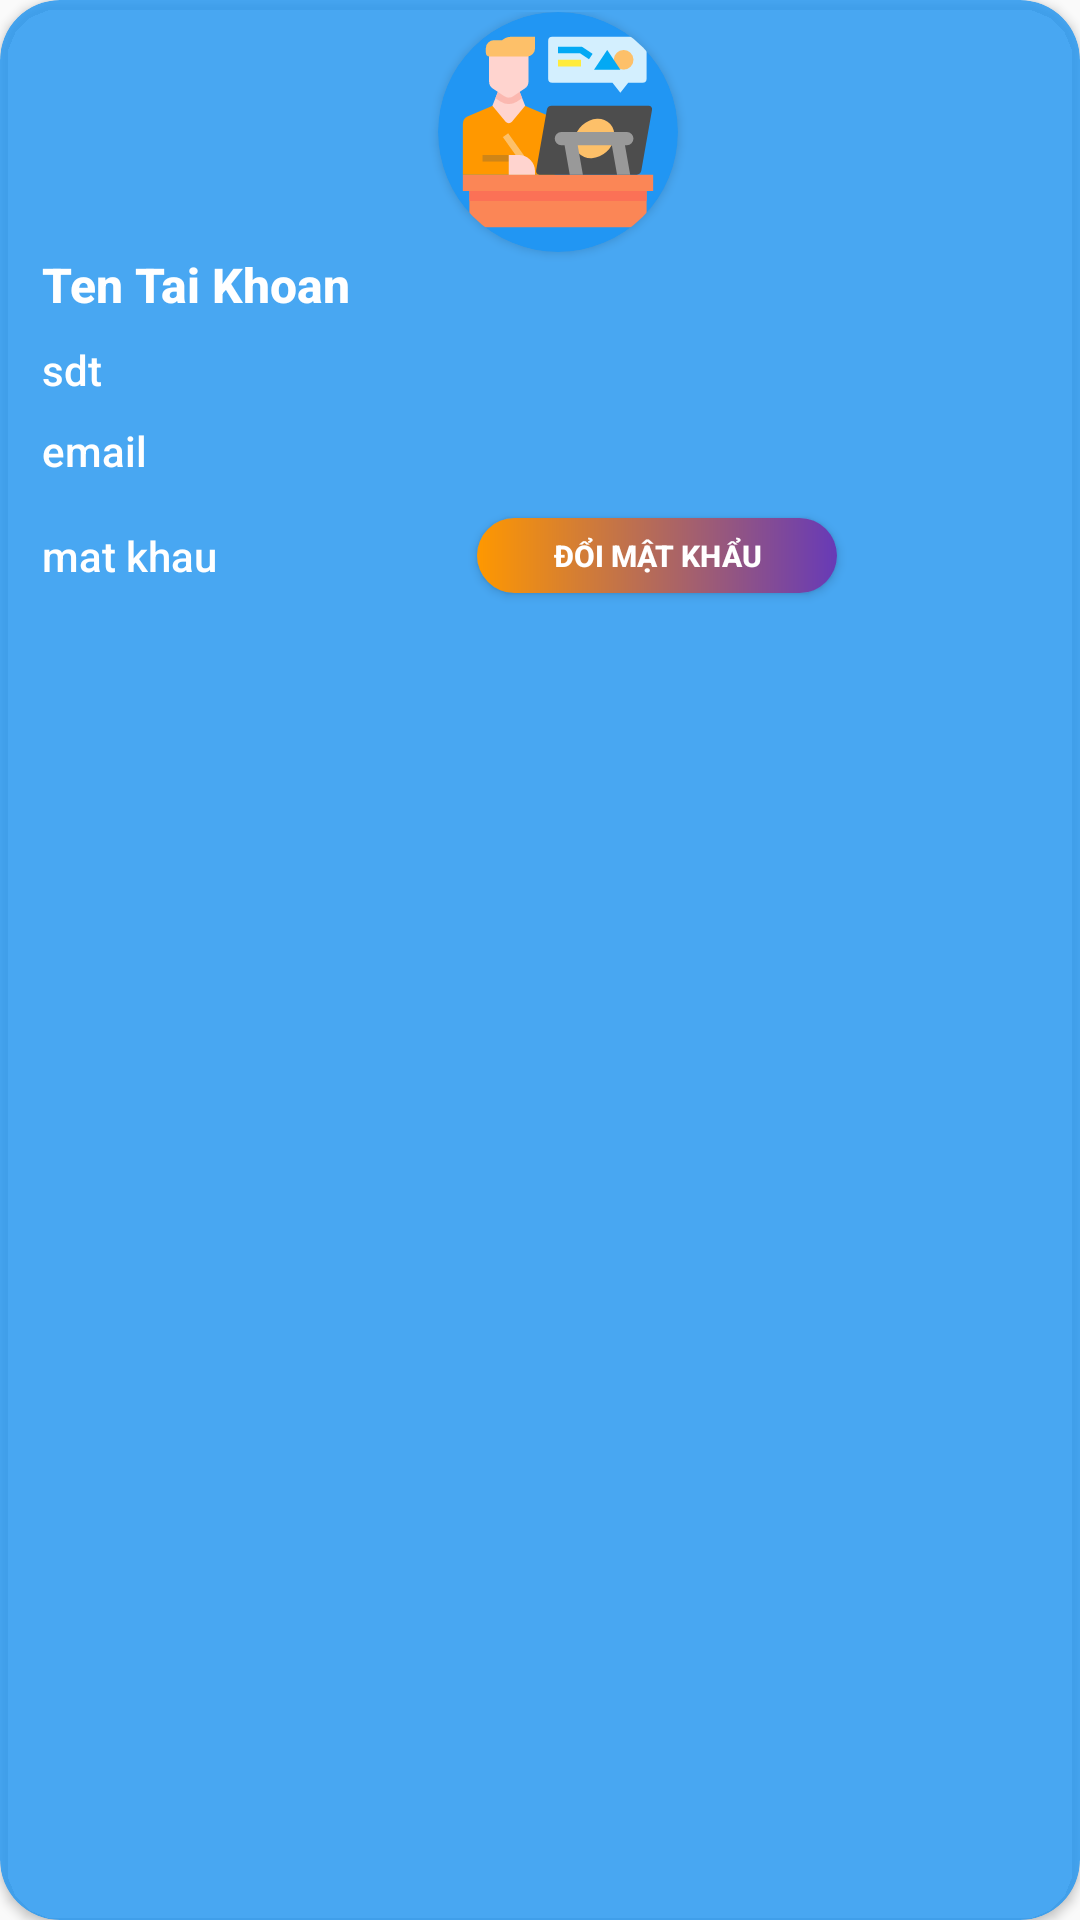

Where to tap for icons on this 1080×1920 app screen, as (x=x, y=y):
designer: (x=558, y=132)
